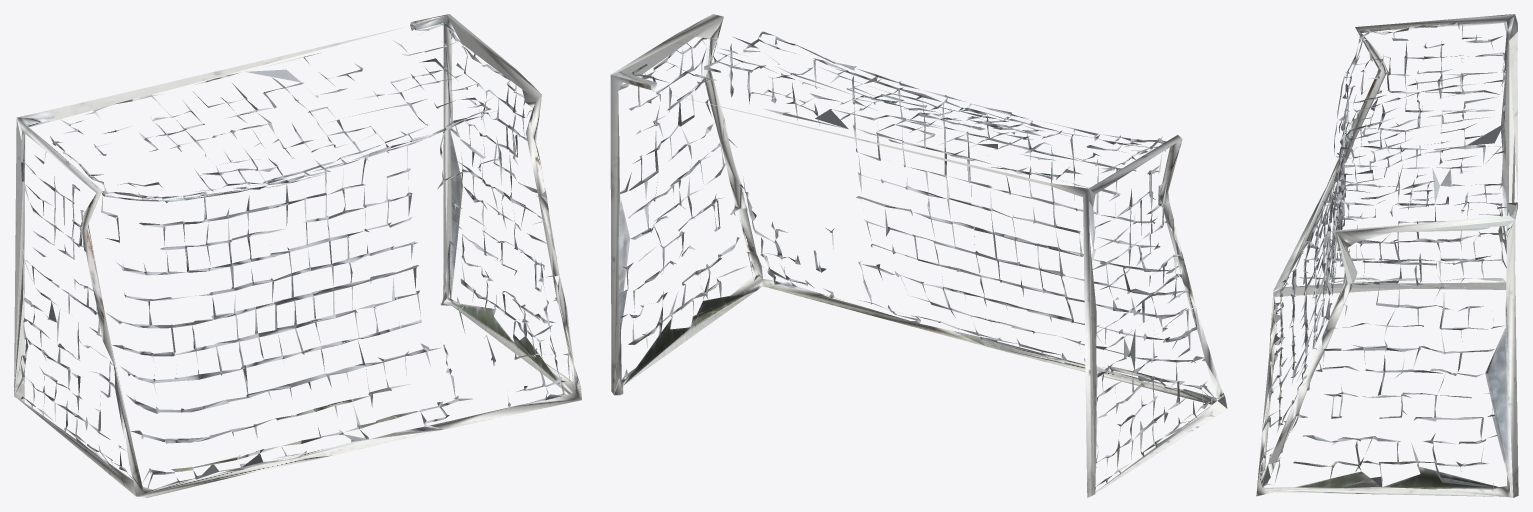
File: fv_goal.glb
3 views of the same model, side by side, from view 1: azimuth 30°, elevation 25°; view 2: azimuth 150°, elevation 25°; view 3: azimuth 270°, elevation 25° (orthographic). The views are drawn at different scales.
Visible parts, largest first — view 1: fv_goal; view 2: fv_goal; view 3: fv_goal.
Part boxes in pixels (x1,y1,x2,y2): fv_goal: [14, 14, 581, 497]; fv_goal: [610, 14, 1227, 497]; fv_goal: [1256, 14, 1518, 497].
Bounding box in the file's own units: 3.02 × 1.9 × 1.61.
1 material, 1 textured.
